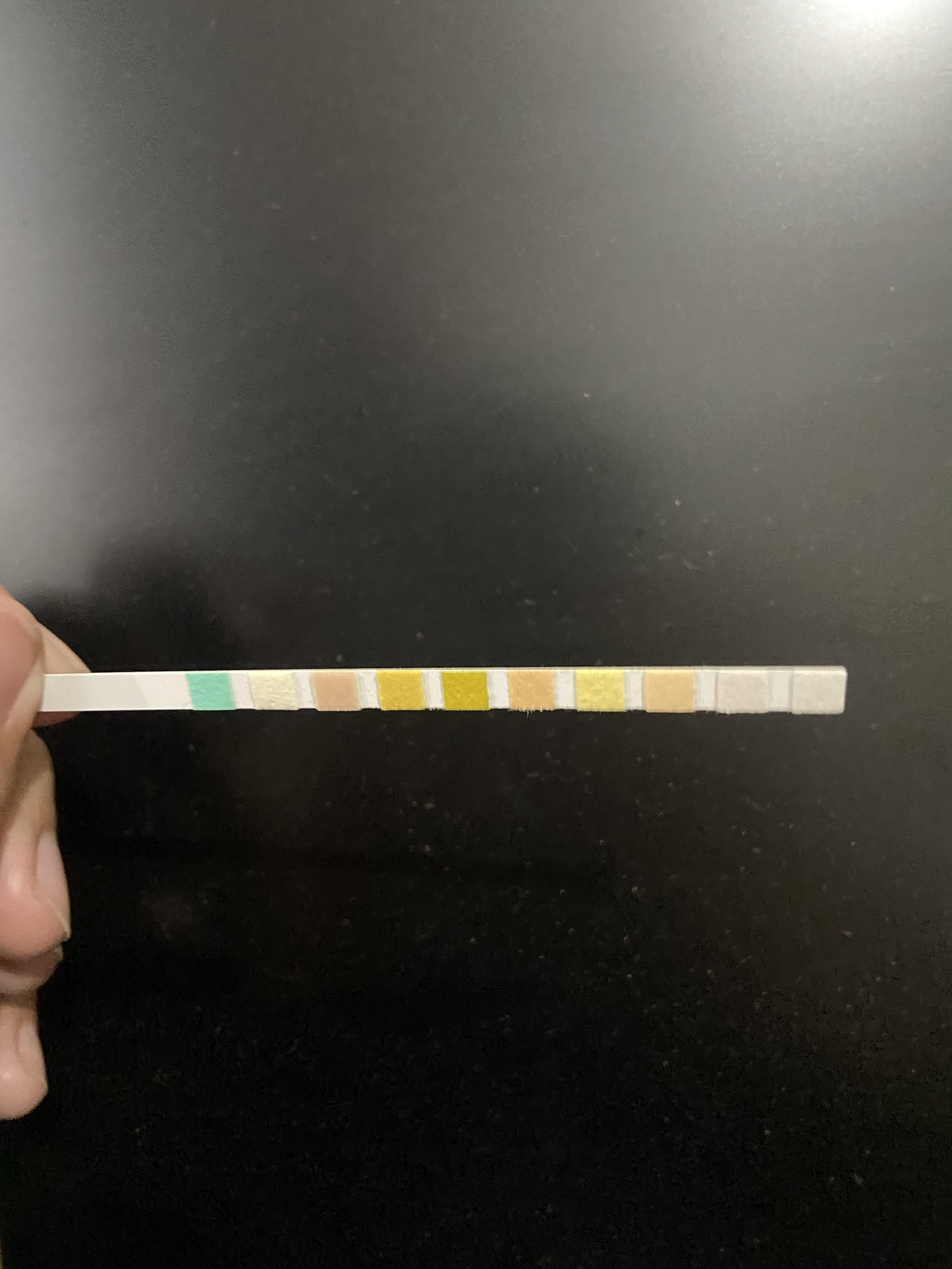Bilirubin: (256, 672, 289, 709)
Blood: (449, 672, 482, 709)
Glucose: (198, 673, 226, 709)
Ketone: (319, 672, 353, 710)
Leukocytes: (795, 673, 842, 712)
Nitrite: (719, 672, 767, 712)
Protein: (579, 671, 621, 709)
SpGravity: (383, 671, 420, 709)
Urobilinogen: (648, 670, 691, 710)
pH: (511, 671, 551, 709)
strip: (53, 666, 846, 712)
